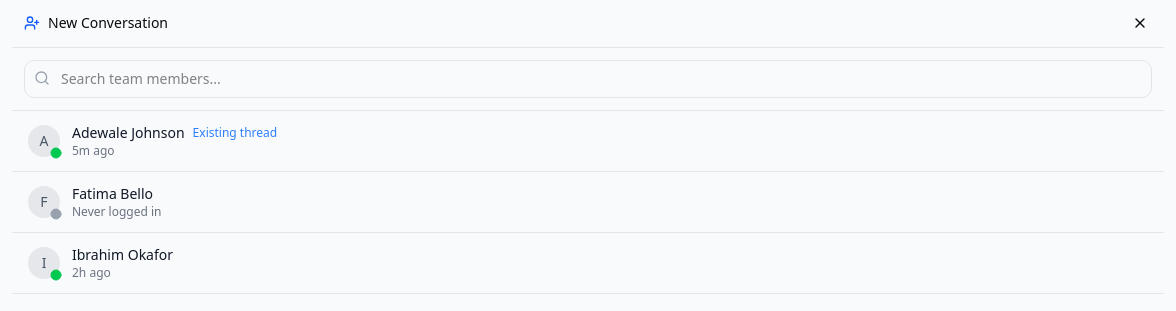
Test: TeamRosterPicker › search filter › shows empty state when no matches
Type "Nonexistent" into the field labelled "Search team members" at (588, 79), box [24,60,1152,98]
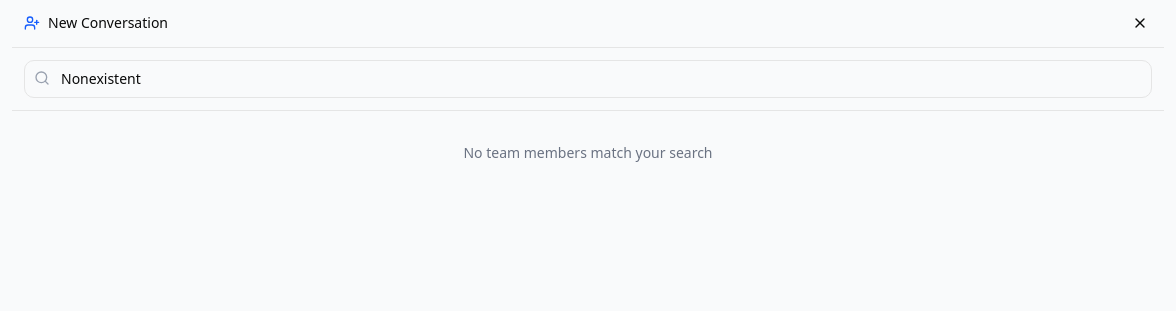
Now the text "No team members match your search" is shown, box [464,143,712,163]
